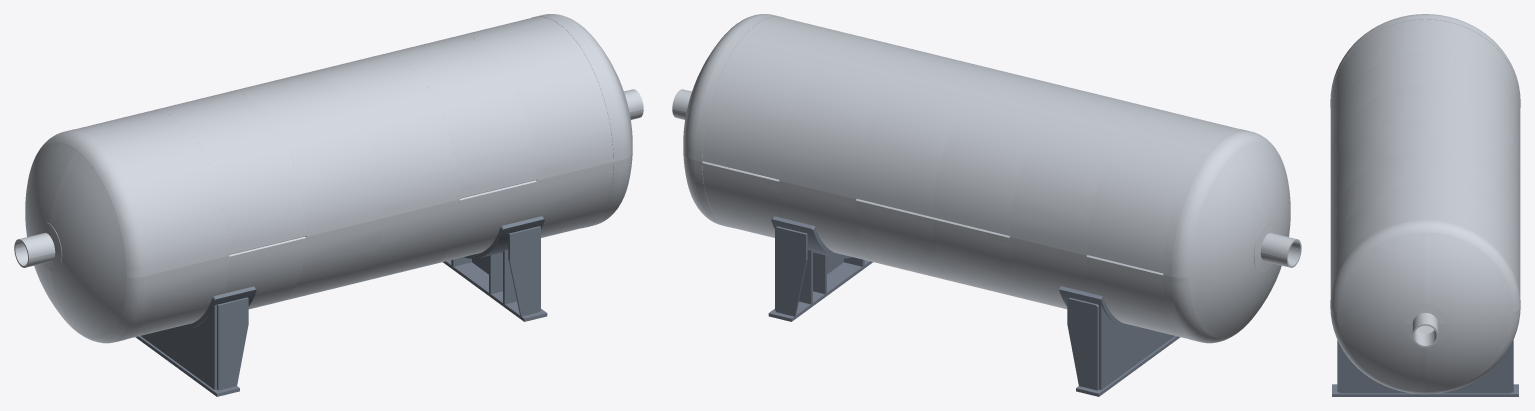
The model's file is Pressure_Vessel.glb.
3 views of the same model, side by side, from view 1: azimuth 30°, elevation 25°; view 2: azimuth 150°, elevation 25°; view 3: azimuth 270°, elevation 25° (orthographic). The views are drawn at different scales.
Parts seen in each view (by area): view 1: steel, saddle; view 2: steel, saddle; view 3: steel, saddle.
Boxes of the visible parts, x1,y1,x2,y2 form: steel: [14, 14, 643, 343]; saddle: [135, 216, 547, 396]; steel: [672, 14, 1301, 343]; saddle: [768, 216, 1180, 396]; steel: [1330, 14, 1520, 394]; saddle: [1332, 340, 1518, 396].
Bounding box in the file's own units: 4.06 × 1.5 × 1.24.
